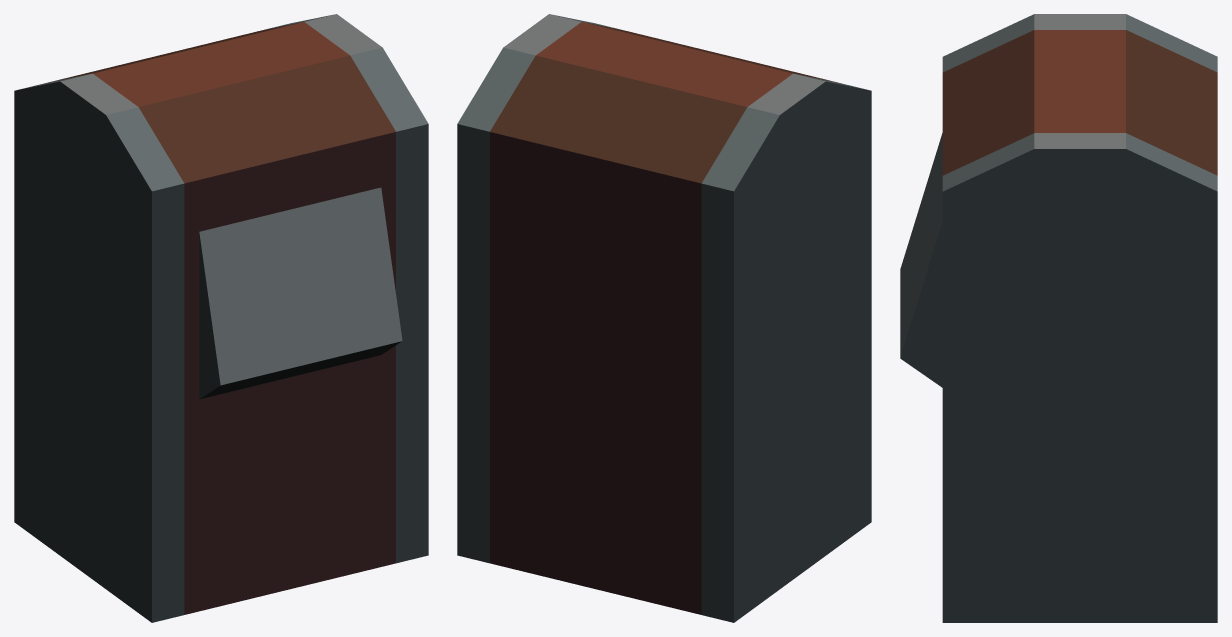
File: TB_CITY_Prop_GarbageCan_B.FBX
3 renders of one model, left to right at view 1: azimuth 30°, elevation 25°; view 2: azimuth 150°, elevation 25°; view 3: azimuth 270°, elevation 25°, orthographic.
Parts seen in each view (by area): view 1: TB_CITY_Prop_GarbageCan_B; view 2: TB_CITY_Prop_GarbageCan_B; view 3: TB_CITY_Prop_GarbageCan_B.
Part boxes in pixels (box(x1,y1,x2,y2)): TB_CITY_Prop_GarbageCan_B: box(14, 14, 428, 622); TB_CITY_Prop_GarbageCan_B: box(457, 14, 871, 622); TB_CITY_Prop_GarbageCan_B: box(900, 14, 1217, 622).
Size of the model in its own units: 0.9048 by 1.48 by 0.8999.
